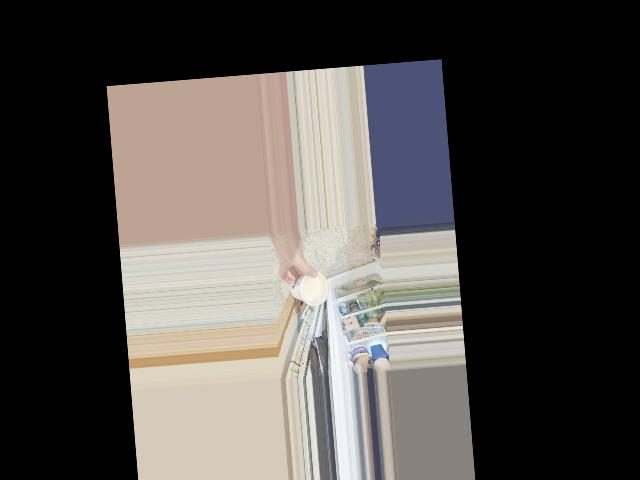cotage: (289, 272, 327, 307)
